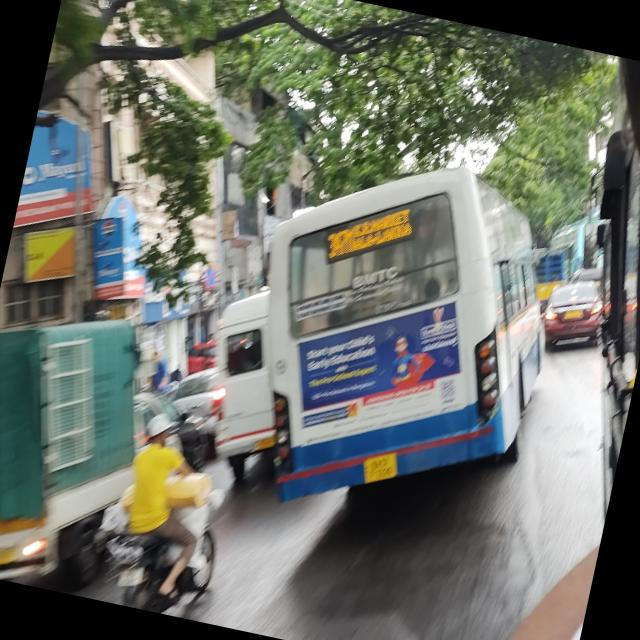bus: (206, 137, 583, 524)
display: (320, 192, 414, 274)
